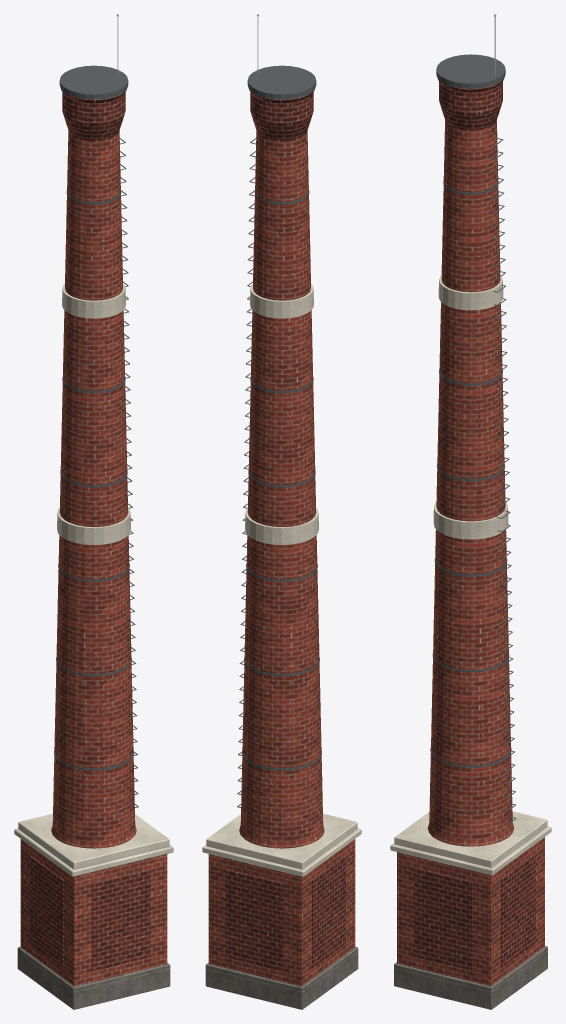
File: chimney.glb
3 renders of one model, left to right at view 1: azimuth 30°, elevation 25°; view 2: azimuth 150°, elevation 25°; view 3: azimuth 330°, elevation 25°, orthographic.
Parts seen in each view (by area): view 1: chimney_brick, chimney_brick2, chimney_trim, chimney_iron, chimney_plinth; view 2: chimney_brick, chimney_brick2, chimney_trim, chimney_iron, chimney_plinth; view 3: chimney_brick, chimney_brick2, chimney_trim, chimney_iron, chimney_plinth.
Boxes of the visible parts, box(x1,y1,x2,y2) form: chimney_brick: box(20, 130, 167, 986); chimney_brick2: box(30, 89, 149, 971); chimney_trim: box(14, 284, 173, 876); chimney_iron: box(54, 65, 138, 807); chimney_plinth: box(17, 946, 170, 1009); chimney_brick: box(208, 130, 355, 986); chimney_brick2: box(226, 89, 345, 971); chimney_trim: box(202, 284, 361, 876); chimney_iron: box(237, 65, 321, 807); chimney_plinth: box(205, 946, 358, 1009); chimney_brick: box(397, 120, 544, 986); chimney_brick2: box(414, 78, 535, 970); chimney_trim: box(390, 275, 551, 875); chimney_iron: box(430, 54, 516, 824); chimney_plinth: box(394, 946, 547, 1009).
Size of the model in its own units: 2.84 by 25.63 by 2.84.
7 materials, 4 textured.
